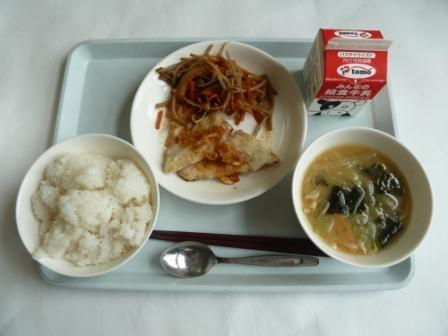Milk: (304, 21, 396, 125)
Rice: (11, 127, 160, 279)
Soups: (295, 124, 434, 276)
cooked food based on meat: (157, 113, 277, 196)
pasta: (147, 44, 284, 125)
